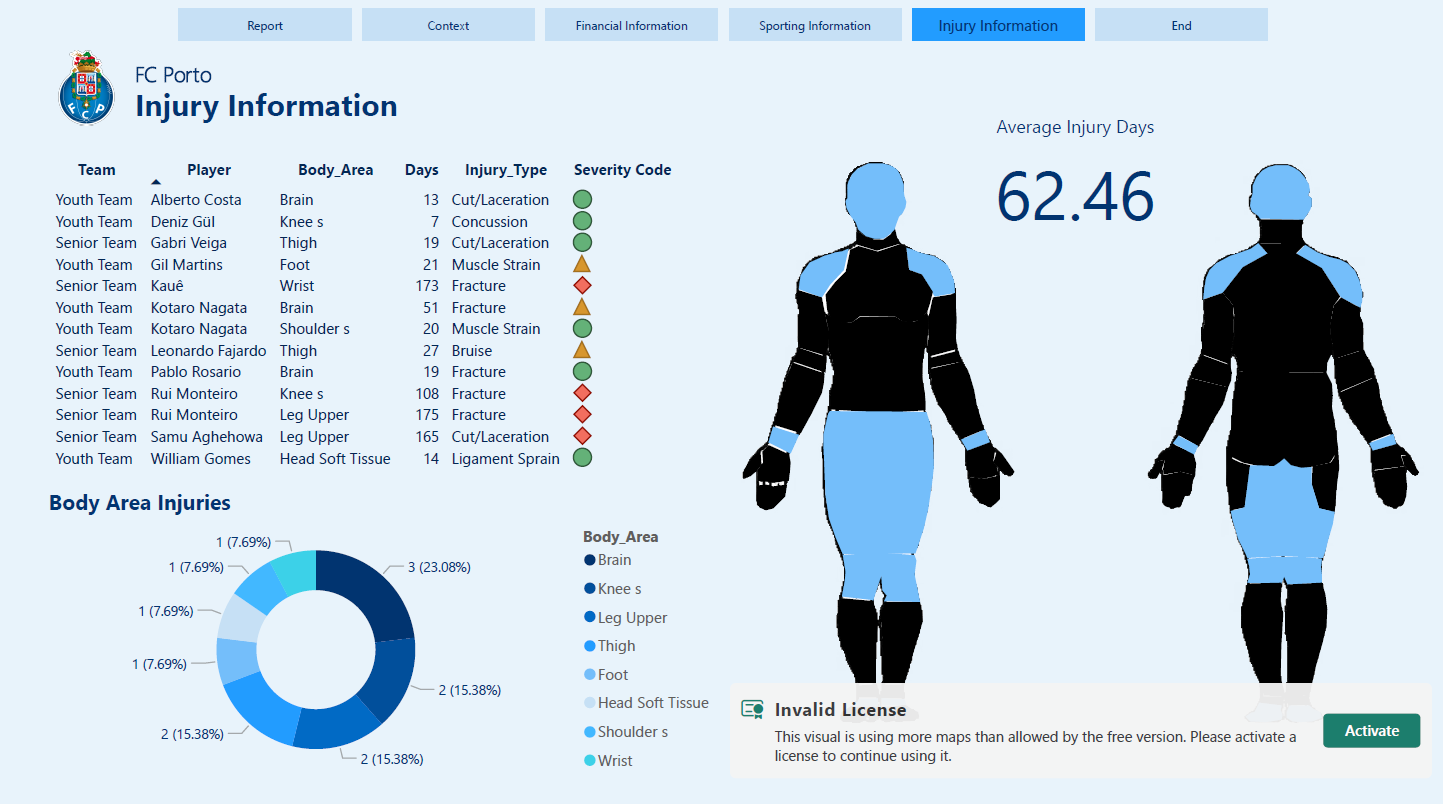

The page's visual inventory and layout, read from the dashboard file:
{"tool":"powerbi","page":{"name":"Injury Information","canvas":[1280,720],"ordinal":4},"visuals":[{"type":"group","id":"g1","title":"Grupo 1","box":[38,50,375,77],"z":0},{"type":"image","box":[38,50,76.2,76.2],"z":0,"group":"g1"},{"type":"textbox","box":[113.9,79.1,300,47.5],"z":1000,"group":"g1"},{"type":"synopticPanelByOKVIZC365478550CD4DC0A2ED985DC3E23EED","fields":{"category_role":["Injuries_Record.Body_Area"]},"box":[640,97.5,630,605],"z":1000},{"type":"textbox","box":[114.2,57.5,105,41.2],"z":2000,"group":"g1"},{"type":"tableEx","fields":{"Values":["Teams.Team_Name","Financial_Information.Player_Name","Injuries_Record.Body_Area","Injuries_Record.Days","Injuries_Record.Injury_Type","_Measures.Severity Code"]},"box":[37.5,145,602.5,296.2],"z":2000},{"type":"donutChart","title":"Body Area Injuries","fields":{"Category":["Injuries_Record.Body_Area"],"Y":["_Measures.Players by Body Area"]},"box":[38,441,603,262],"z":3000},{"type":"cardVisual","fields":{"Data":["_Measures.Average Injury Days"]},"box":[857,74,370,183],"z":4000},{"type":"pageNavigator","box":[158,18,964,28],"z":5000}]}

Visuals, with their boxes in screenshot pixels (x1, y1, x2, y2), scaled from the page's 1280x720 canvas onto the 1443x808 screenshot:
"Grupo 1" group: box(43, 56, 466, 143)
image: box(43, 56, 129, 142)
textbox: box(128, 89, 467, 142)
synopticPanelByOKVIZC365478550CD4DC0A2ED985DC3E23EED - Injuries_Record.Body_Area: box(722, 109, 1432, 788)
textbox: box(129, 65, 247, 111)
tableEx - Teams.Team_Name x Financial_Information.Player_Name: box(42, 163, 722, 495)
"Body Area Injuries" donutChart: box(43, 495, 723, 789)
cardVisual - _Measures.Average Injury Days: box(966, 83, 1383, 288)
pageNavigator: box(178, 20, 1265, 52)
